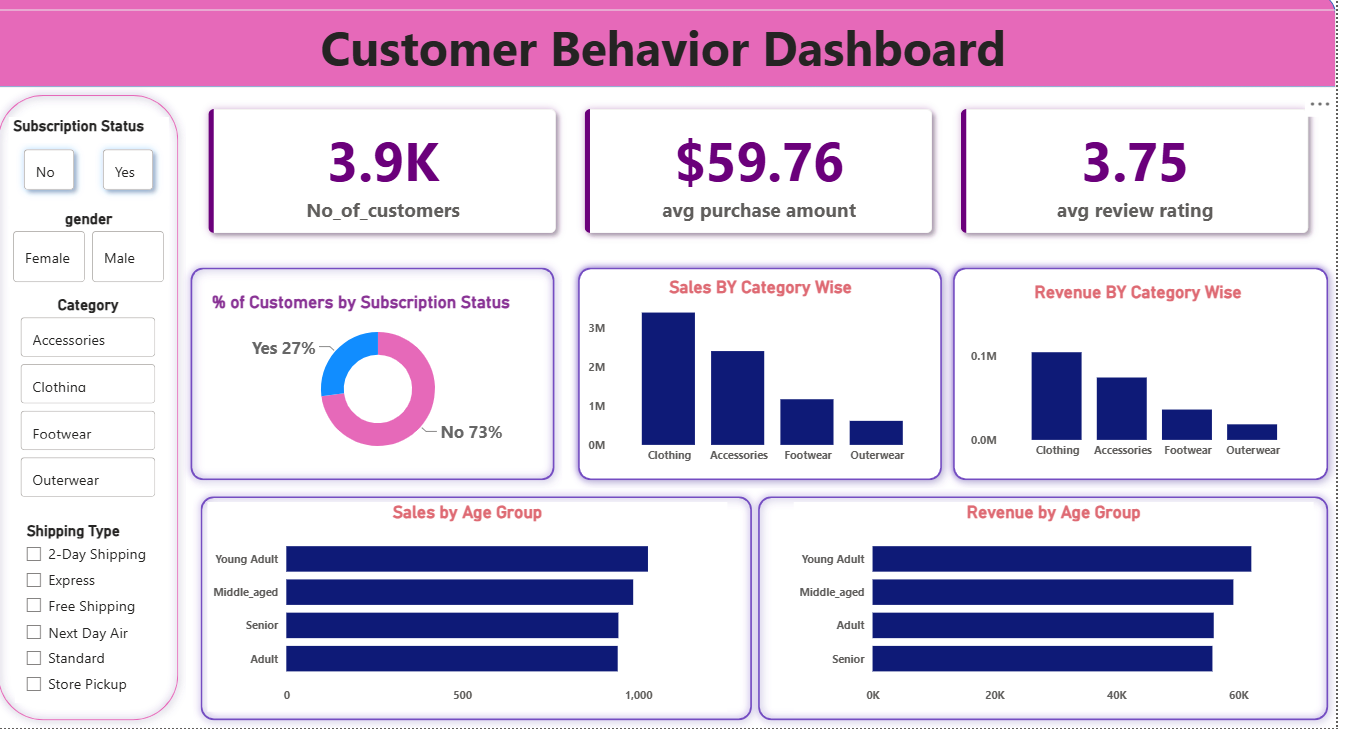

This screenshot's page, from the dashboard's own definition file:
{"tool":"powerbi","page":{"name":"Page 1","canvas":[1500,820],"ordinal":0},"visuals":[{"type":"shape","box":[225.6,552.9,632.3,267.4],"z":0},{"type":"textbox","box":[0,267.8,1280.3,14.7],"z":1000},{"type":"cardVisual","fields":{"Data":["measure calculation.Number_of_customers","measure calculation.avg purchase amount","measure calculation.avg review rating"]},"box":[214.5,101.7,1285.4,196.4],"z":2000},{"type":"shape","box":[0,0,1499.9,105.8],"z":3000},{"type":"textbox","box":[0,19.5,1499.9,86.3],"z":4000},{"type":"donutChart","title":"% of Customers by Subscription Status","fields":{"Category":["customer_shopping_behavior.subscription_status"],"Y":["Count(customer_shopping_behavior.customer_id)"]},"box":[242.3,334.2,380.2,195],"z":4500},{"type":"shape","box":[1064,298,435.9,254.9],"z":5000},{"type":"shape","box":[646.2,298,423.4,254.9],"z":7000},{"type":"clusteredColumnChart","title":"Revenue BY Category Wise","fields":{"Category":["customer_shopping_behavior.category"],"Y":["Sum(customer_shopping_behavior.purchase_amount)"]},"box":[1087.7,323.1,383,206.1],"z":8000},{"type":"clusteredColumnChart","title":"Sales BY Category Wise","fields":{"Category":["customer_shopping_behavior.category"],"Y":["Sum(customer_shopping_behavior.customer_id)"]},"box":[661.5,317.5,394.1,217.3],"z":9000},{"type":"shape","box":[0,105.8,218.6,714.4],"z":10000},{"type":"advancedSlicerVisual","fields":{"Values":["customer_shopping_behavior.subscription_status"]},"box":[20.9,139.3,178.3,98.9],"z":11000},{"type":"advancedSlicerVisual","fields":{"Values":["customer_shopping_behavior.category"]},"box":[29.2,338.4,153.2,246.5],"z":12000},{"type":"slicer","fields":{"Values":["customer_shopping_behavior.shipping_type"]},"box":[27.9,584.9,154.6,207.5],"z":13000},{"type":"shape","box":[846.7,552.9,653.2,267.4],"z":14000},{"type":"clusteredBarChart","title":"Sales by Age Group","fields":{"Category":["customer_shopping_behavior.age_group"],"Y":["Count(customer_shopping_behavior.customer_id)"]},"box":[242.3,568.2,579.4,234],"z":15000},{"type":"advancedSlicerVisual","fields":{"Values":["customer_shopping_behavior.gender"]},"box":[20.9,242.3,178.3,86.3],"z":16000},{"type":"shape","box":[214.5,298,423.4,254.9],"z":16500},{"type":"clusteredBarChart","title":"Revenue by Age Group","fields":{"Category":["customer_shopping_behavior.age_group"],"Y":["Sum(customer_shopping_behavior.purchase_amount)"]},"box":[895.5,568.2,579.4,234],"z":17000},{"type":"image","box":[0,0,279.9,121.2],"z":17001}]}

Visuals, with their boxes in screenshot pixels (x1, y1, x2, y2), scaled from the page's 1500x820 canvas onto the 1346x729 screenshot:
shape: crop(202, 492, 770, 728)
textbox: crop(0, 238, 1149, 251)
cardVisual - measure calculation.Number_of_customers x measure calculation.avg purchase amount: crop(192, 90, 1345, 265)
shape: crop(0, 0, 1345, 94)
textbox: crop(0, 17, 1345, 94)
"% of Customers by Subscription Status" donutChart: crop(217, 297, 559, 470)
shape: crop(955, 265, 1345, 492)
shape: crop(580, 265, 960, 492)
"Revenue BY Category Wise" clusteredColumnChart: crop(976, 287, 1320, 470)
"Sales BY Category Wise" clusteredColumnChart: crop(594, 282, 947, 475)
shape: crop(0, 94, 196, 728)
advancedSlicerVisual - customer_shopping_behavior.subscription_status: crop(19, 124, 179, 212)
advancedSlicerVisual - customer_shopping_behavior.category: crop(26, 301, 164, 520)
slicer - customer_shopping_behavior.shipping_type: crop(25, 520, 164, 704)
shape: crop(760, 492, 1345, 728)
"Sales by Age Group" clusteredBarChart: crop(217, 505, 737, 713)
advancedSlicerVisual - customer_shopping_behavior.gender: crop(19, 215, 179, 292)
shape: crop(192, 265, 572, 492)
"Revenue by Age Group" clusteredBarChart: crop(804, 505, 1323, 713)
image: crop(0, 0, 251, 108)
